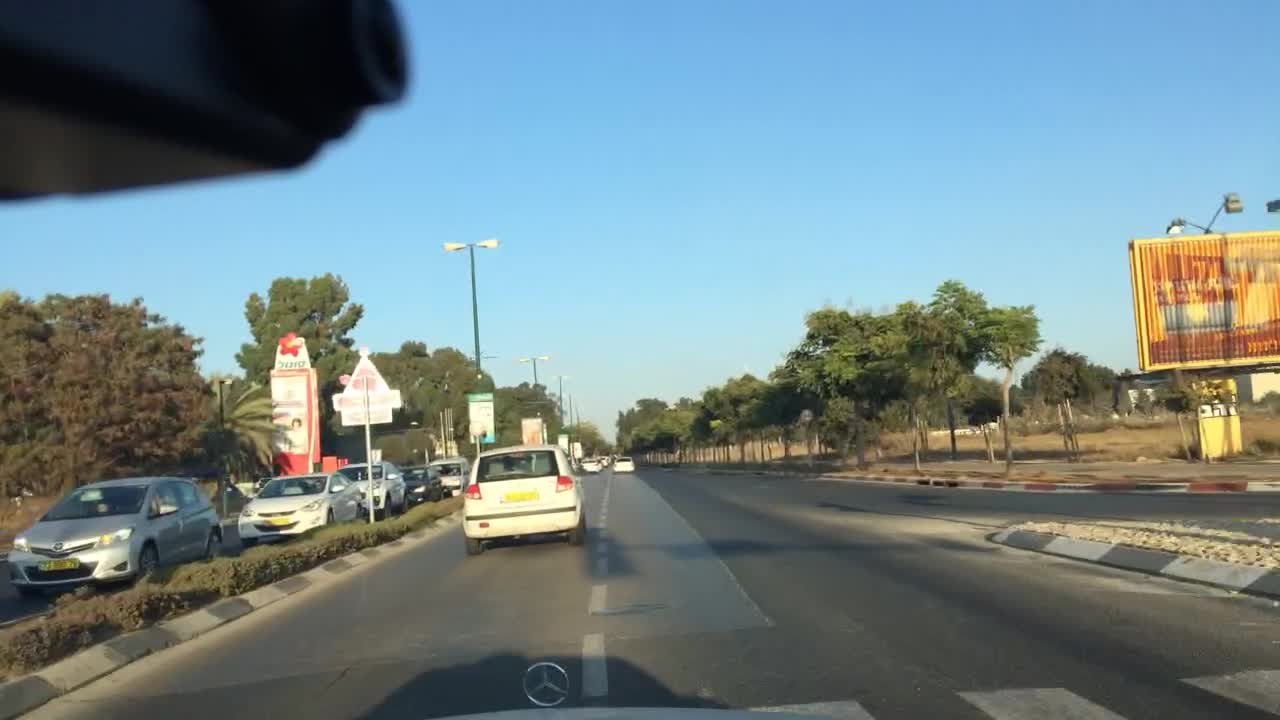car: (4, 475, 226, 590), (458, 441, 589, 555), (233, 473, 364, 544), (333, 459, 411, 518), (400, 462, 448, 506), (428, 453, 472, 499), (579, 454, 605, 474), (611, 454, 637, 474), (594, 453, 610, 470), (603, 453, 613, 465), (495, 507, 520, 511)
traffic sign: (330, 350, 402, 427)
